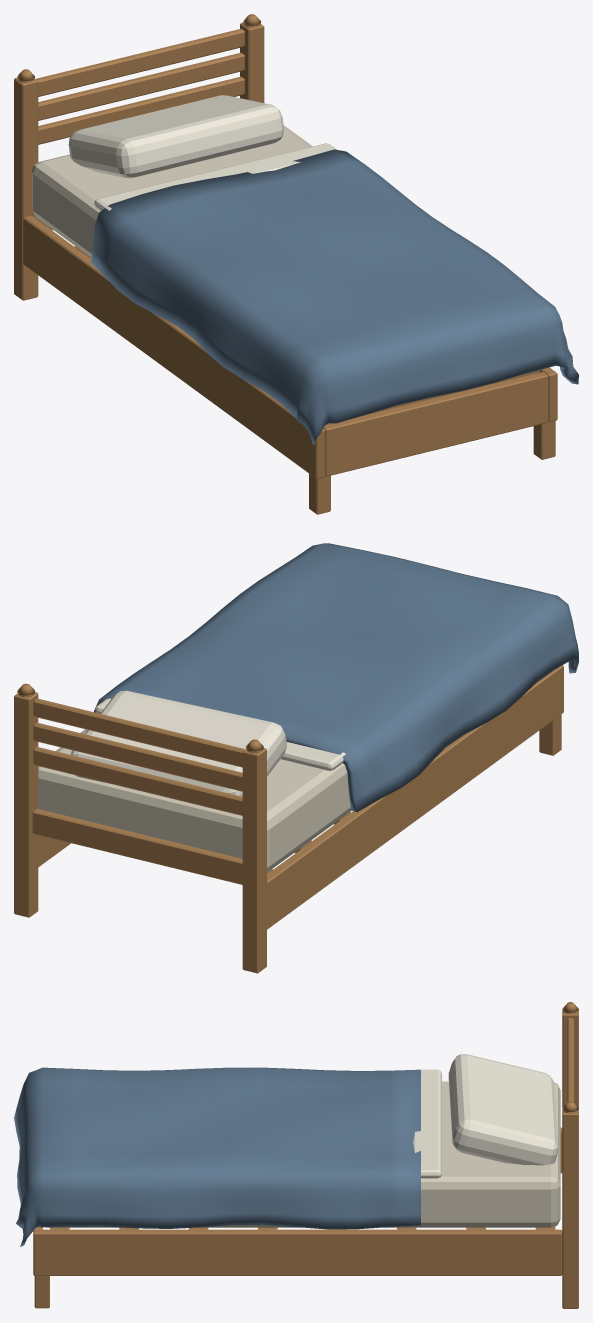
The model's file is CamaDeSolteiro.fbx.
3 renders of one model, top to bottom at view 1: azimuth 30°, elevation 25°; view 2: azimuth 150°, elevation 25°; view 3: azimuth 270°, elevation 25°, orthographic. The views are drawn at different scales.
Parts seen in each view (by area): view 1: CamaDeSolteiro; view 2: CamaDeSolteiro; view 3: CamaDeSolteiro.
Boxes of the visible parts, <box> form: CamaDeSolteiro: <box>14,14,578,514</box>; CamaDeSolteiro: <box>14,543,578,973</box>; CamaDeSolteiro: <box>14,1002,578,1308</box>.
Bounding box in the file's own units: 1.04 × 0.8 × 2.02.
